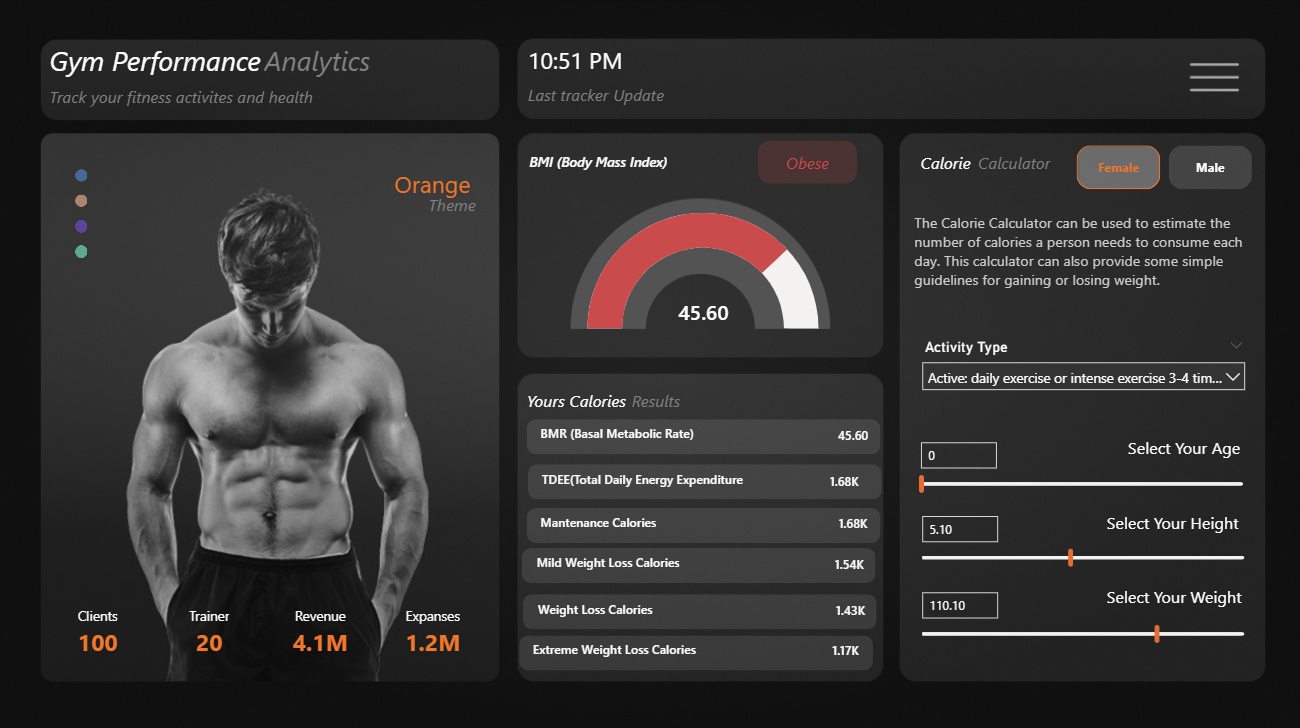

The dashboard page shown, as its layout file describes it:
{"tool":"powerbi","page":{"name":"Calculator","canvas":[1280,720],"ordinal":2},"visuals":[{"type":"shape","box":[518.7,413,347.2,34.3],"z":0},{"type":"slicer","fields":{"Values":["Age_Slider.Age_Slider"]},"box":[893.3,425.9,341.7,72.7],"z":1000},{"type":"slicer","fields":{"Values":["Height_Slider.Height_Slider"]},"box":[894.7,498.7,341.7,74.1],"z":2000},{"type":"slicer","fields":{"Values":["Weight_Slider.Weight_Slider"]},"box":[894,572.8,341.7,71.4],"z":3000},{"type":"slicer","fields":{"Values":["Slider_Activity.Category"]},"box":[897.4,329.3,337.6,83.7],"z":4000},{"type":"advancedSlicerVisual","fields":{"Values":["Slider_Gender.Category"]},"box":[1053.9,140,182.5,53.5],"z":5000},{"type":"shape","box":[905.7,141.3,56.3,41.2],"z":8000},{"type":"shape","box":[961.9,141.3,78.2,41.2],"z":9000},{"type":"textbox","box":[894.7,205.8,340.3,94.7],"z":10000},{"type":"gauge","fields":{"Y":["_Measures.BMI"]},"box":[539.3,205.8,304.6,123.5],"z":11000},{"type":"shape","box":[1108.8,421.3,113.9,41.2],"z":12000},{"type":"shape","box":[1088.2,494,134.5,41.2],"z":13000},{"type":"shape","box":[1088.2,566.7,134.5,41.2],"z":14000},{"type":"card","fields":{"Values":["_Measures.BMI"]},"box":[657.3,279.9,70,60.4],"z":15000},{"type":"shape","box":[521.4,140,135.8,41.2],"z":16000},{"type":"shape","box":[746.5,140,97.4,42.5],"z":17000},{"type":"shape","box":[532.4,406.2,179.8,41.2],"z":18000},{"type":"card","fields":{"Values":["_Measures.BMI"]},"box":[813.7,411.7,52.1,39.8],"z":19000},{"type":"shape","box":[518.7,374.6,102.9,41.2],"z":20000},{"type":"shape","box":[621.6,374.6,78.2,41.2],"z":21000},{"type":"shape","box":[519.9,458.2,347.2,34.3],"z":22000},{"type":"shape","box":[533.8,451.5,212.7,41.2],"z":23000},{"type":"card","fields":{"Values":["_Measures.TDEE"]},"box":[805.1,457.9,52.1,39.8],"z":24000},{"type":"shape","box":[514.5,539.5,347.2,34.3],"z":25000},{"type":"shape","box":[528.3,532.7,179.8,41.2],"z":26000},{"type":"card","fields":{"Values":["_Measures.Mid Weight Loss Calories"]},"box":[809.6,538.1,52.1,39.8],"z":27000},{"type":"shape","box":[519.1,500.1,347.2,34.3],"z":28000},{"type":"shape","box":[532.8,493.3,179.8,41.2],"z":29000},{"type":"card","fields":{"Values":["_Measures.Mantain Calories"]},"box":[814.1,498.7,52.1,39.8],"z":30000},{"type":"shape","box":[511.4,625.3,347.2,34.3],"z":31000},{"type":"shape","box":[525.1,618.4,179.8,41.2],"z":32000},{"type":"card","fields":{"Values":["_Measures.Extreme Weight Loss Calories"]},"box":[806.4,623.9,52.1,39.8],"z":33000},{"type":"shape","box":[515.9,585.9,347.2,34.3],"z":34000},{"type":"shape","box":[529.6,579,179.8,41.2],"z":35000},{"type":"card","fields":{"Values":["_Measures.Weight Loss Calories"]},"box":[810.9,584.5,52.1,39.8],"z":36000},{"type":"shape","box":[50.8,81,266.2,28.8],"z":37000},{"type":"image","box":[1152.7,49.4,86.4,60.4],"z":38000},{"type":"shape","box":[520.1,39.8,119.4,41.2],"z":39000},{"type":"shape","box":[520.1,79.6,148.2,28.8],"z":40000},{"type":"advancedSlicerVisual","fields":{"Values":["ColorCodes.Icon"]},"box":[65.9,160.5,31.6,102.9],"z":41000},{"type":"shape","box":[366.4,160.5,119.4,41.2],"z":42000},{"type":"shape","box":[371.9,188,148.2,28.8],"z":43000},{"type":"cardVisual","fields":{"Data":["_Measures.Users_Count"]},"box":[42.9,581.4,110,80],"z":44000},{"type":"cardVisual","fields":{"Data":["Count(Users.Trainer Name)"]},"box":[152.9,581.4,108.6,80],"z":45000},{"type":"cardVisual","fields":{"Data":["_Measures.Revenue"]},"box":[261.4,581.4,110,80],"z":46000},{"type":"cardVisual","fields":{"Data":["_Measures.Expanses"]},"box":[371.4,581.4,110,80],"z":47000},{"type":"shape","box":[50.3,39.3,211,41.7],"z":47001},{"type":"shape","box":[261.4,39.3,120.2,41.7],"z":47002}]}

Visuals, with their boxes in screenshot pixels (x1, y1, x2, y2), scaled from the page's 1280x720 canvas onto the 1300x728 screenshot:
shape: (527,418,879,452)
slicer - Age_Slider.Age_Slider: (907,431,1254,504)
slicer - Height_Slider.Height_Slider: (909,504,1256,579)
slicer - Weight_Slider.Weight_Slider: (908,579,1255,651)
slicer - Slider_Activity.Category: (911,333,1254,418)
advancedSlicerVisual - Slider_Gender.Category: (1070,142,1256,196)
shape: (920,143,977,185)
shape: (977,143,1056,185)
textbox: (909,208,1254,304)
gauge - _Measures.BMI: (548,208,857,333)
shape: (1126,426,1242,468)
shape: (1105,499,1242,541)
shape: (1105,573,1242,615)
card - _Measures.BMI: (668,283,739,344)
shape: (530,142,667,183)
shape: (758,142,857,185)
shape: (541,411,723,452)
card - _Measures.BMI: (826,416,879,457)
shape: (527,379,631,420)
shape: (631,379,711,420)
shape: (528,463,881,498)
shape: (542,457,758,498)
card - _Measures.TDEE: (818,463,871,503)
shape: (523,545,875,580)
shape: (537,539,719,580)
card - _Measures.Mid Weight Loss Calories: (822,544,875,584)
shape: (527,506,880,540)
shape: (541,499,724,540)
card - _Measures.Mantain Calories: (827,504,880,544)
shape: (519,632,872,667)
shape: (533,625,716,667)
card - _Measures.Extreme Weight Loss Calories: (819,631,872,671)
shape: (524,592,877,627)
shape: (538,585,720,627)
card - _Measures.Weight Loss Calories: (824,591,876,631)
shape: (52,82,322,111)
image: (1171,50,1258,111)
shape: (528,40,649,82)
shape: (528,80,679,110)
advancedSlicerVisual - ColorCodes.Icon: (67,162,99,266)
shape: (372,162,493,204)
shape: (378,190,528,219)
cardVisual - _Measures.Users_Count: (44,588,155,669)
cardVisual - Count(Users.Trainer Name): (155,588,266,669)
cardVisual - _Measures.Revenue: (265,588,377,669)
cardVisual - _Measures.Expanses: (377,588,489,669)
shape: (51,40,265,82)
shape: (265,40,388,82)
